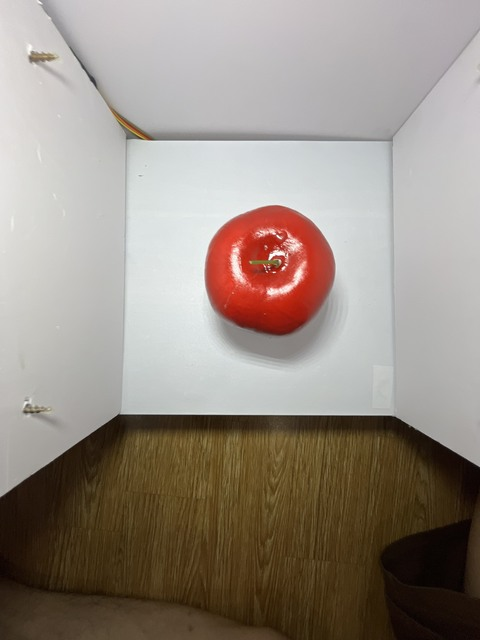Tao: (201, 201, 339, 339)
